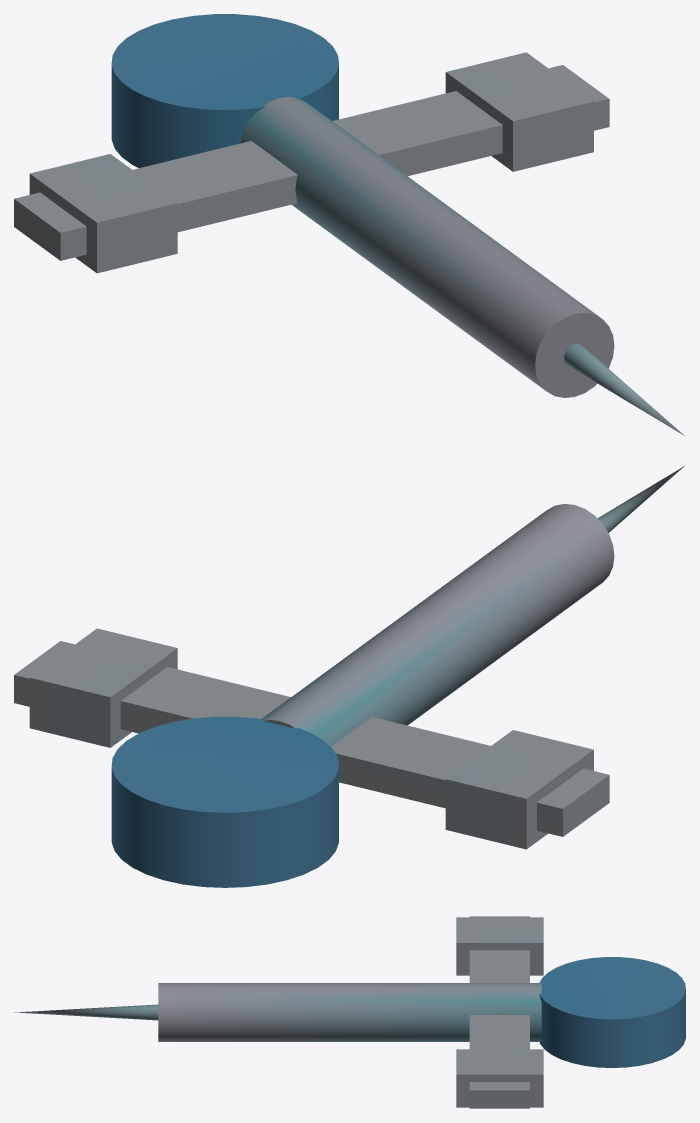
3 views of the same model, one above another, from view 1: azimuth 30°, elevation 25°; view 2: azimuth 150°, elevation 25°; view 3: azimuth 270°, elevation 25° (orthographic). The views are drawn at different scales.
Visible parts, largest first — view 1: body, disc, bar, end_block.001, end_block, point; view 2: disc, body, bar, end_block, end_block.001, point; view 3: body, disc, bar, end_block.001, end_block, point.
Boxes of the visible parts, left/top/right/bottom form: body: left=240, top=96, right=614, bottom=397; disc: left=111, top=14, right=338, bottom=167; bar: left=14, top=65, right=609, bottom=260; end_block.001: left=29, top=154, right=177, bottom=273; end_block: left=445, top=52, right=593, bottom=171; point: left=564, top=344, right=685, bottom=436; disc: left=111, top=716, right=338, bottom=887; body: left=261, top=504, right=614, bottom=746; bar: left=14, top=641, right=609, bottom=836; end_block: left=29, top=628, right=177, bottom=747; end_block.001: left=445, top=730, right=593, bottom=849; point: left=598, top=466, right=684, bottom=532; body: left=158, top=983, right=541, bottom=1041; disc: left=539, top=957, right=685, bottom=1067; bar: left=469, top=916, right=529, bottom=1108; end_block.001: left=456, top=917, right=543, bottom=975; end_block: left=456, top=1049, right=543, bottom=1107; point: left=14, top=1004, right=158, bottom=1020.
Bounding box in the file's own units: 0.0612 × 0.00885 × 0.1.
